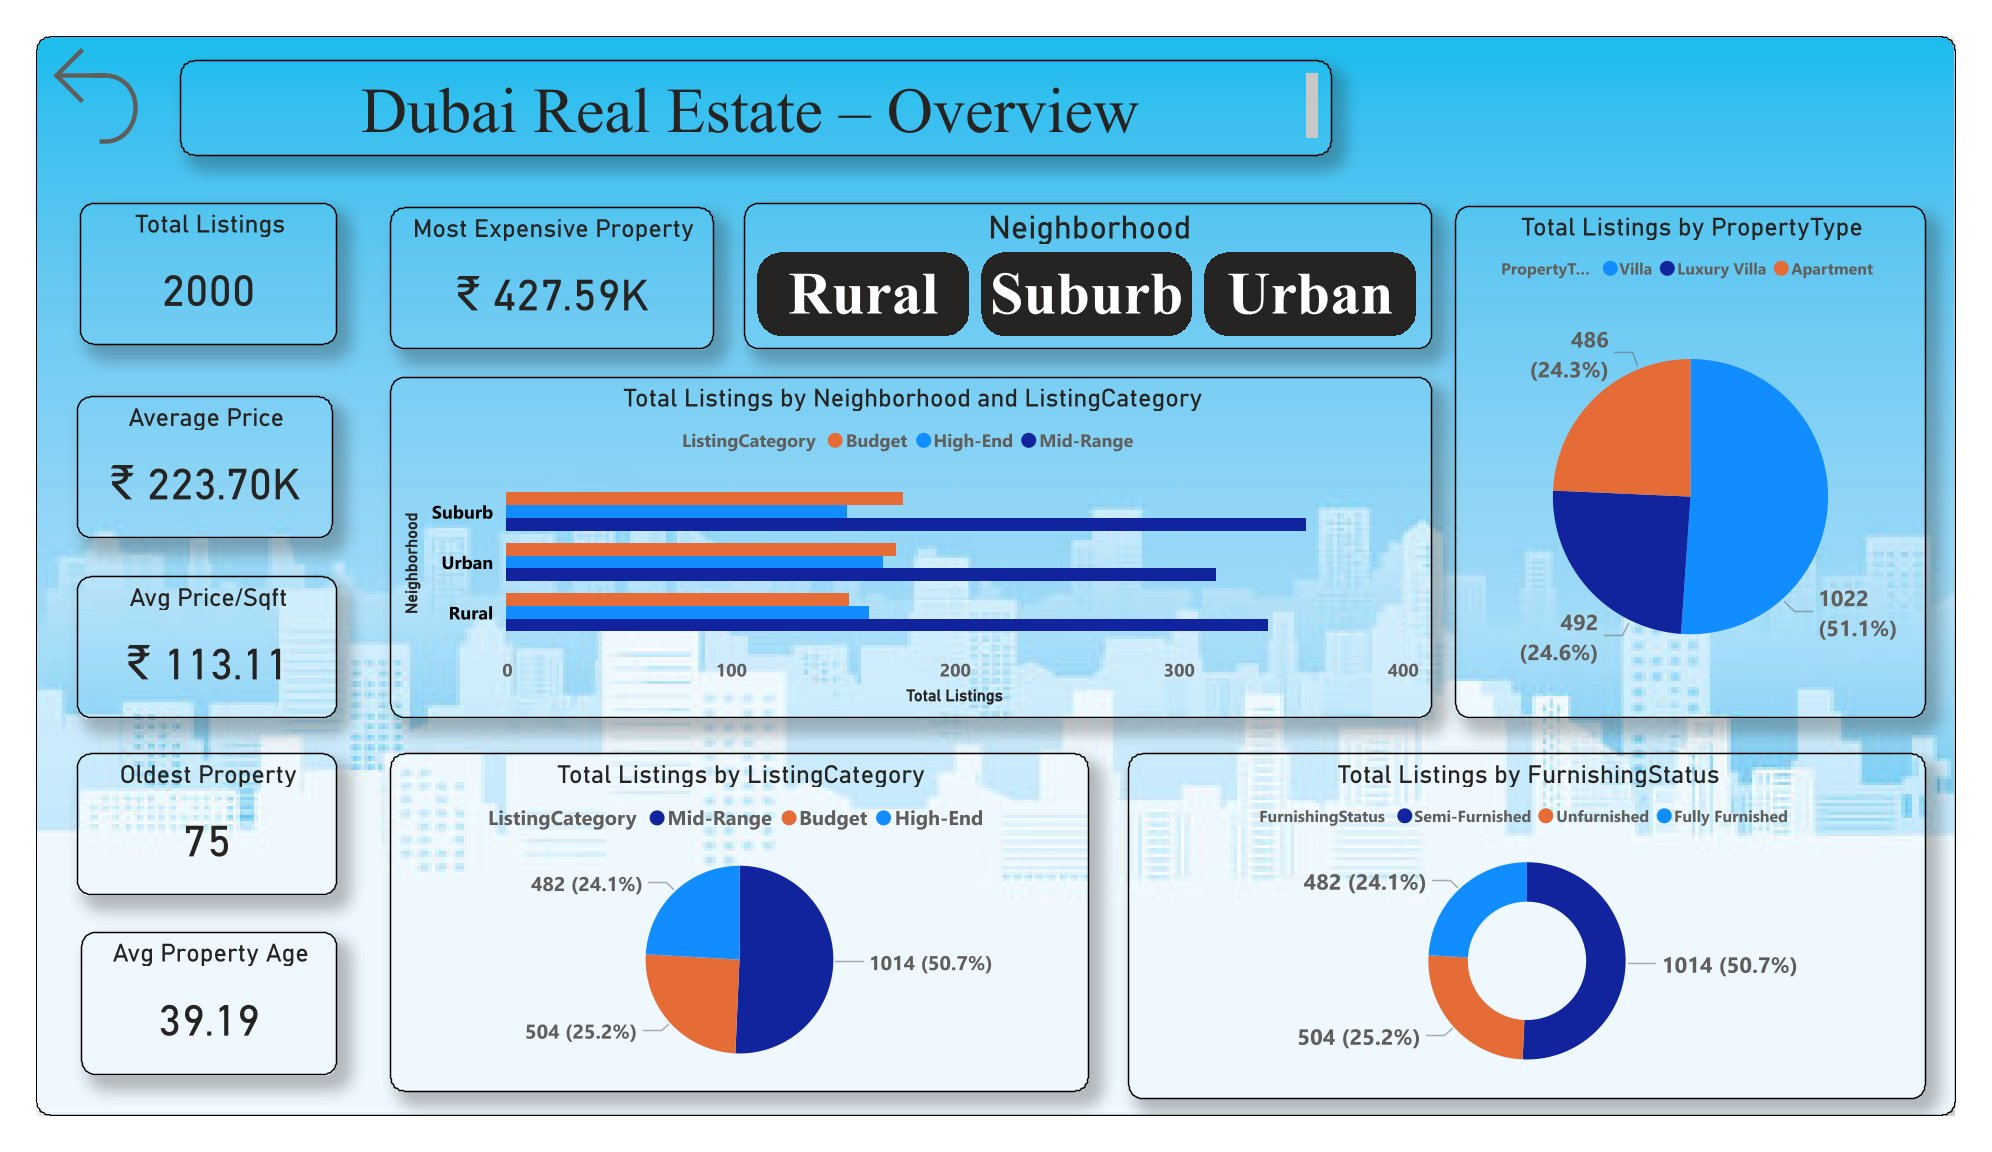

This screenshot's page, from the dashboard's own definition file:
{"tool":"powerbi","page":{"name":"Overview","canvas":[1280,720],"ordinal":1},"visuals":[{"type":"image","box":[0,0,1280.3,720.2],"z":0},{"type":"actionButton","box":[0,0,80,80],"z":1000},{"type":"textbox","box":[96,16,768,64],"z":2000},{"type":"card","title":"Total Listings","fields":{"Values":["housing_price_dataset.Total Listings"]},"box":[29,110.8,172.4,95.4],"z":3000},{"type":"card","title":"Average Price","fields":{"Values":["housing_price_dataset.Avg Price"]},"box":[26.9,239.7,171.2,95.4],"z":4000},{"type":"card","title":"Oldest Property","fields":{"Values":["housing_price_dataset.Oldest Property"]},"box":[27,477.6,173.6,95.4],"z":5000},{"type":"card","title":"Avg Price/Sqft","fields":{"Values":["housing_price_dataset.Avg Price per Sqft"]},"box":[26.9,359.5,173.6,95.4],"z":6000},{"type":"card","title":"Most Expensive Property","fields":{"Values":["housing_price_dataset.Most Expensive Property"]},"box":[236,113.7,216.4,95.4],"z":7000},{"type":"clusteredBarChart","fields":{"Category":["housing_price_dataset.Neighborhood"],"Series":["housing_price_dataset.ListingCategory"],"Y":["housing_price_dataset.Total Listings"]},"box":[236,227.4,694.6,227.4],"z":8000},{"type":"pieChart","fields":{"Category":["housing_price_dataset.ListingCategory"],"Y":["housing_price_dataset.Total Listings"]},"box":[236,478.1,465.9,226.2],"z":9000},{"type":"pieChart","fields":{"Category":["housing_price_dataset.PropertyType"],"Y":["housing_price_dataset.Total Listings"]},"box":[946.5,112.5,313,342.4],"z":10000},{"type":"advancedSlicerVisual","fields":{"Values":["housing_price_dataset.Neighborhood"]},"box":[472,111.3,458.6,97.8],"z":11000},{"type":"card","title":"Avg Property Age","fields":{"Values":["Avg(housing_price_dataset.PropertyAge)"]},"box":[29.8,597.5,171.2,95.4],"z":12000},{"type":"pieChart","fields":{"Category":["housing_price_dataset.FurnishingStatus"],"Y":["housing_price_dataset.Total Listings"]},"box":[727.6,478.1,531.9,231.1],"z":13000}]}

Visuals, with their boxes in screenshot pixels (x1, y1, x2, y2), scaled from the page's 1280x720 canvas onto the 1992x1152 screenshot:
image: <bbox>0, 0, 1991, 1151</bbox>
actionButton: <bbox>0, 0, 124, 128</bbox>
textbox: <bbox>149, 26, 1345, 128</bbox>
"Total Listings" card: <bbox>45, 177, 313, 330</bbox>
"Average Price" card: <bbox>42, 384, 308, 536</bbox>
"Oldest Property" card: <bbox>42, 764, 312, 917</bbox>
"Avg Price/Sqft" card: <bbox>42, 575, 312, 728</bbox>
"Most Expensive Property" card: <bbox>367, 182, 704, 335</bbox>
clusteredBarChart - housing_price_dataset.Neighborhood x housing_price_dataset.ListingCategory: <bbox>367, 364, 1448, 728</bbox>
pieChart - housing_price_dataset.ListingCategory x housing_price_dataset.Total Listings: <bbox>367, 765, 1092, 1127</bbox>
pieChart - housing_price_dataset.PropertyType x housing_price_dataset.Total Listings: <bbox>1473, 180, 1960, 728</bbox>
advancedSlicerVisual - housing_price_dataset.Neighborhood: <bbox>735, 178, 1448, 335</bbox>
"Avg Property Age" card: <bbox>46, 956, 313, 1109</bbox>
pieChart - housing_price_dataset.FurnishingStatus x housing_price_dataset.Total Listings: <bbox>1132, 765, 1960, 1135</bbox>
